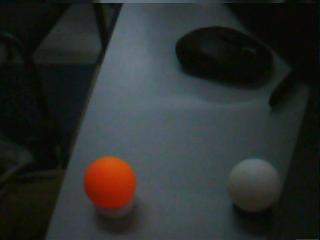oball: (83, 156, 136, 210)
